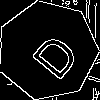D: (22, 25, 82, 82)
